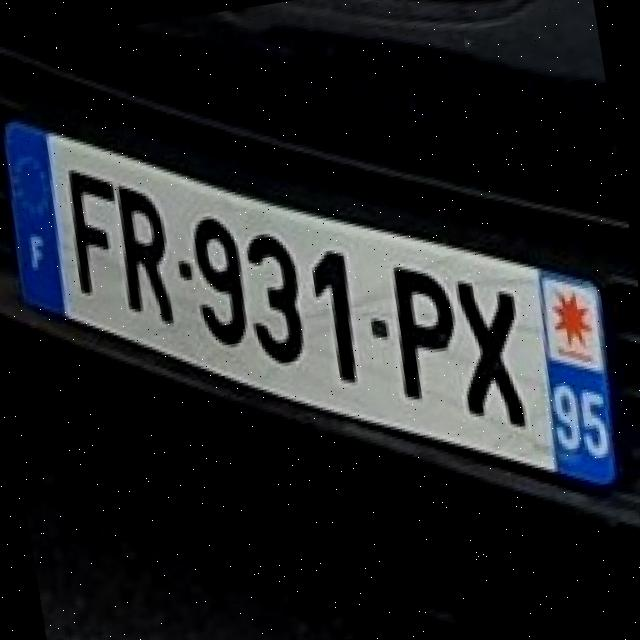EU: (0, 117, 614, 489)
France: (7, 126, 65, 316)
